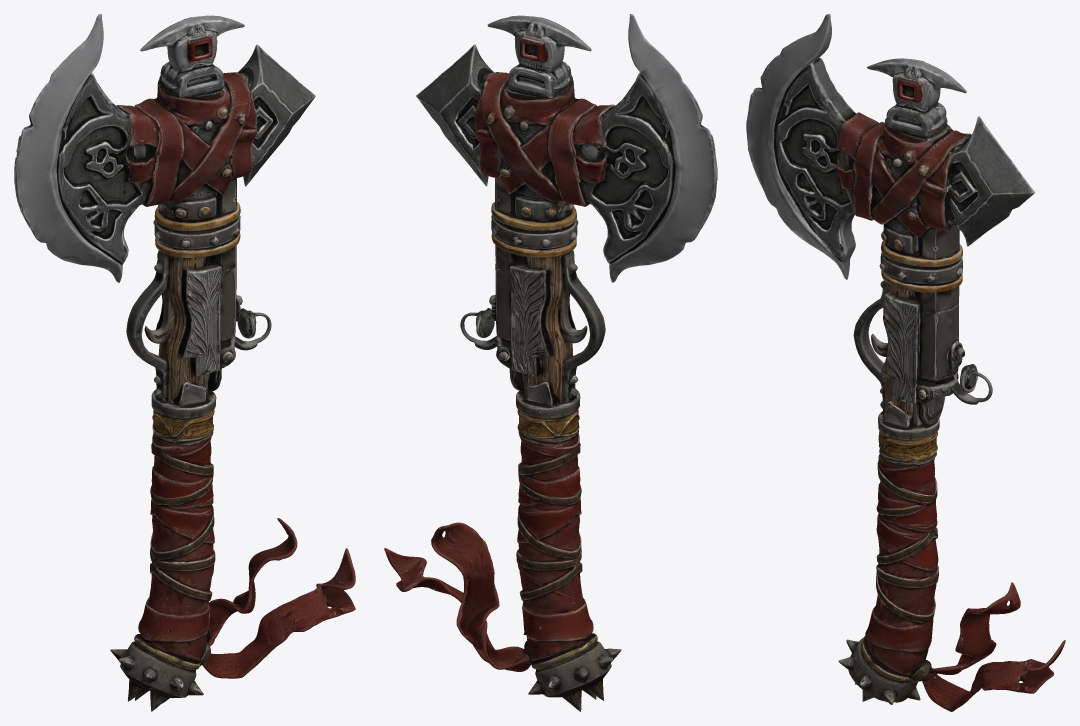
Rendered from hammer.glb.
3 renders of one model, left to right at view 1: azimuth 30°, elevation 25°; view 2: azimuth 150°, elevation 25°; view 3: azimuth 330°, elevation 25°, orthographic. The views are drawn at different scales.
Parts seen in each view (by area): view 1: tripo_node_05909e07-10f3-4462-96ce-a8b06890b6a4; view 2: tripo_node_05909e07-10f3-4462-96ce-a8b06890b6a4; view 3: tripo_node_05909e07-10f3-4462-96ce-a8b06890b6a4.
Part boxes in pixels (x1,y1,x2,y2): tripo_node_05909e07-10f3-4462-96ce-a8b06890b6a4: [14, 14, 355, 711]; tripo_node_05909e07-10f3-4462-96ce-a8b06890b6a4: [384, 14, 717, 711]; tripo_node_05909e07-10f3-4462-96ce-a8b06890b6a4: [746, 14, 1065, 711].
Size of the model in its own units: 0.4946 by 0.9987 by 0.1255.
1 material, 1 textured.
